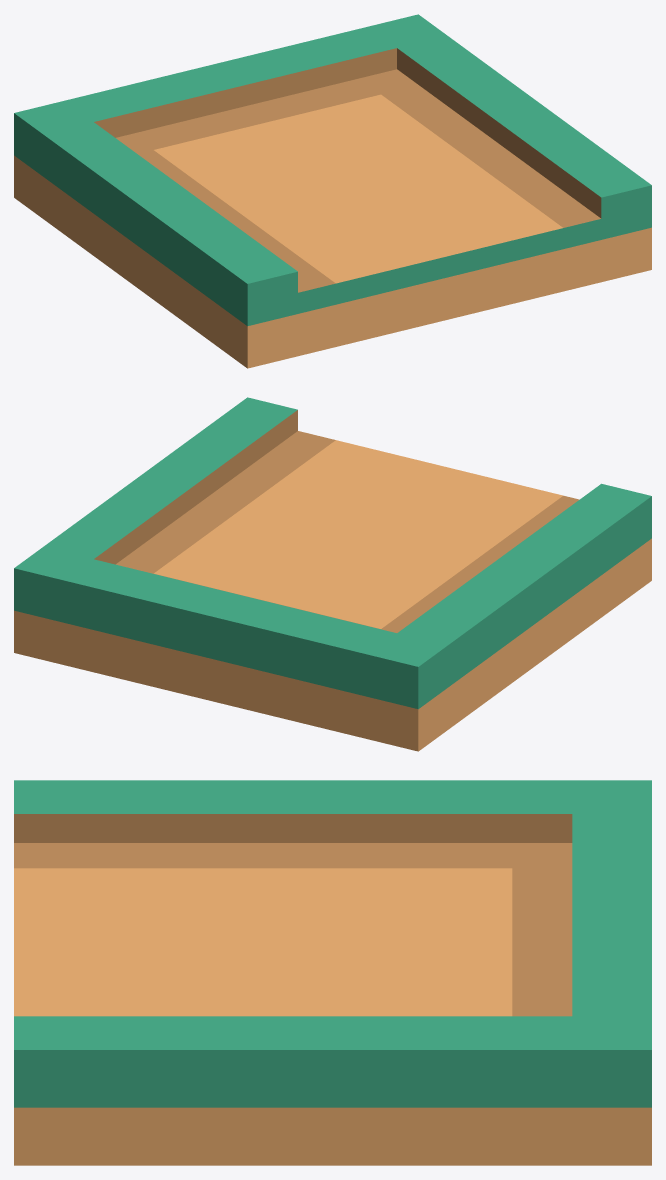
Rendered from tile_end.dae.
3 renders of one model, top to bottom at view 1: azimuth 30°, elevation 25°; view 2: azimuth 150°, elevation 25°; view 3: azimuth 270°, elevation 25°, orthographic. The views are drawn at different scales.
Parts seen in each view (by area): view 1: tile_end; view 2: tile_end; view 3: tile_end.
Part boxes in pixels (x1,y1,x2,y2): tile_end: (14, 14, 651, 368); tile_end: (14, 397, 651, 751); tile_end: (14, 780, 651, 1165).
Size of the model in its own units: 1 by 0.2 by 1.
